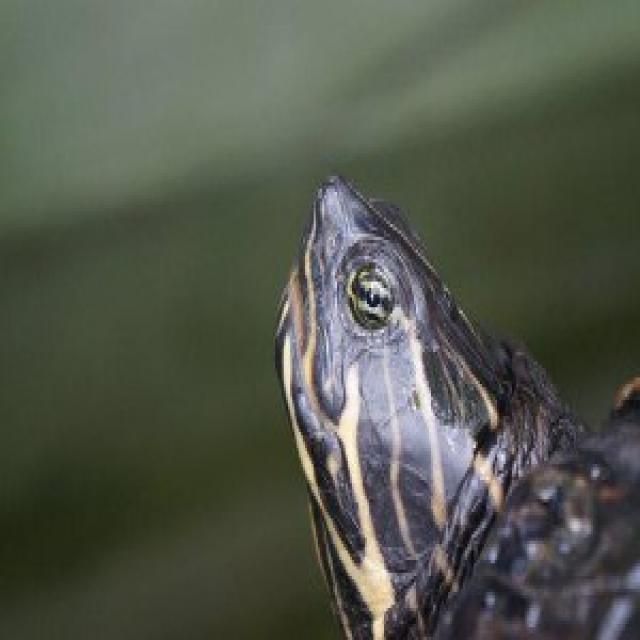Sea turtle: (262, 156, 620, 640)
